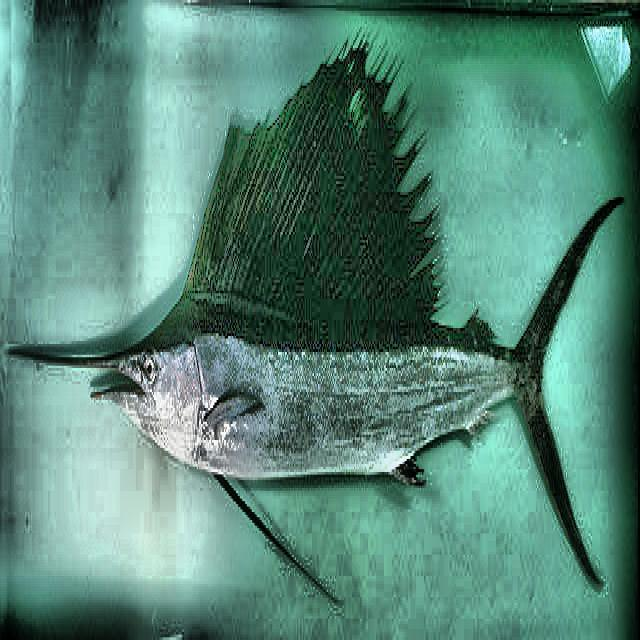fish: (8, 22, 626, 607)
